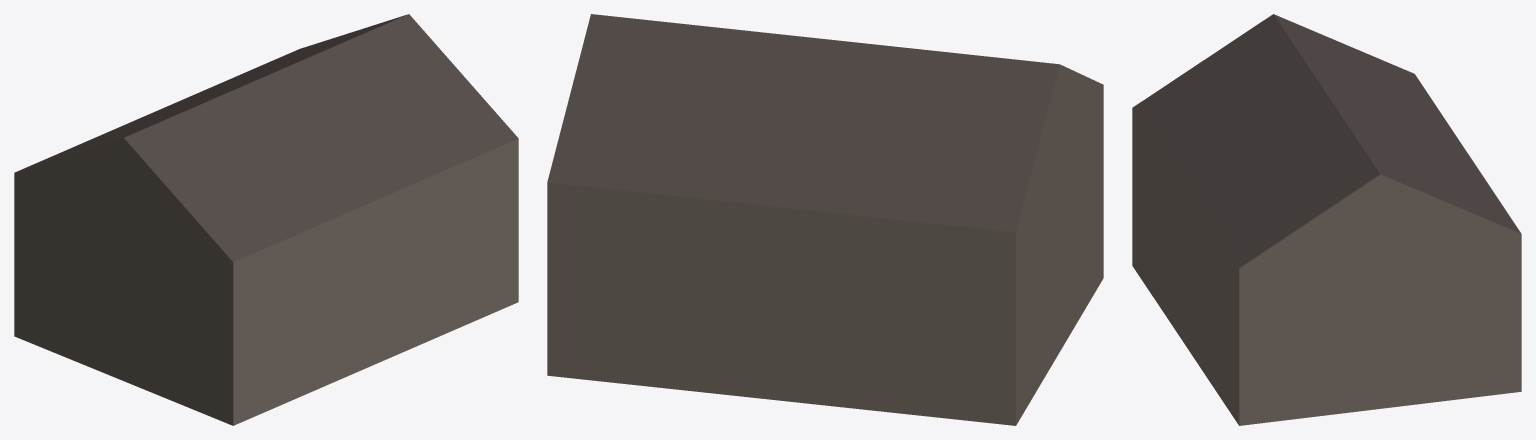
3 renders of one model, left to right at view 1: azimuth 30°, elevation 25°; view 2: azimuth 150°, elevation 25°; view 3: azimuth 270°, elevation 25°, orthographic. The views are drawn at different scales.
Visible parts, largest first — view 1: HP-w1198847852; view 2: HP-w1198847852; view 3: HP-w1198847852.
Part boxes in pixels (box(x1,y1,x2,y2)): HP-w1198847852: box(14, 14, 518, 425); HP-w1198847852: box(547, 14, 1103, 425); HP-w1198847852: box(1132, 14, 1521, 425).
Size of the model in its own units: 15.87 by 8.93 by 13.44.
